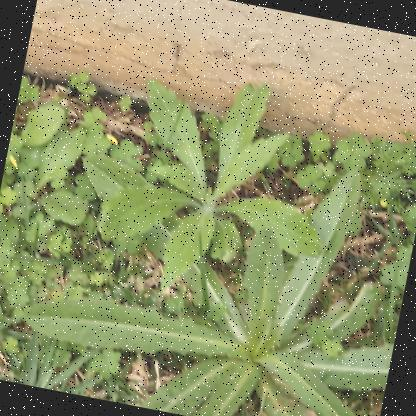Weeds: (7, 111, 415, 415), (88, 59, 354, 318), (0, 115, 101, 242)
